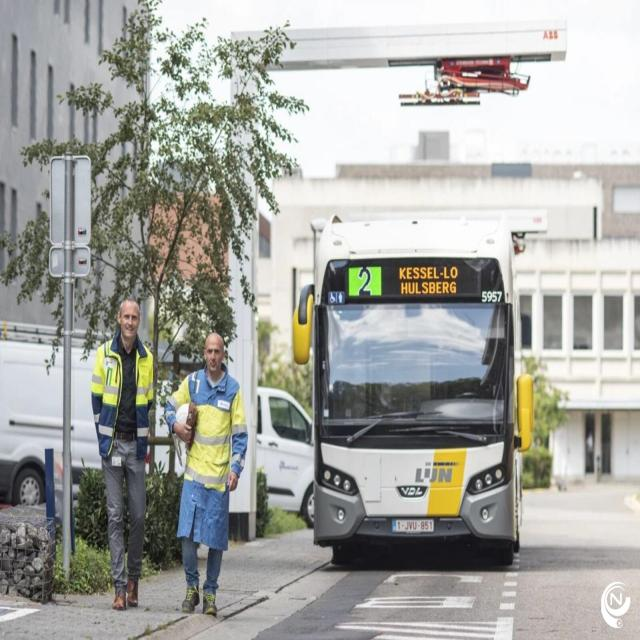bus-number: (348, 266, 382, 298)
